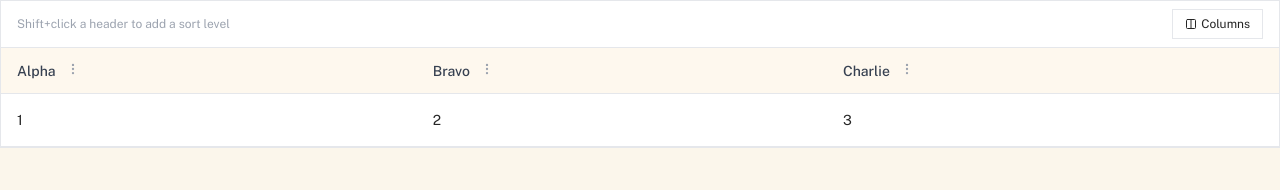
it: DataTable › Select all is disabled when every column is already visible
This screenshot has width=1280, height=190.
Click the button "Columns" at (1218, 24), box [1172, 9, 1263, 39]
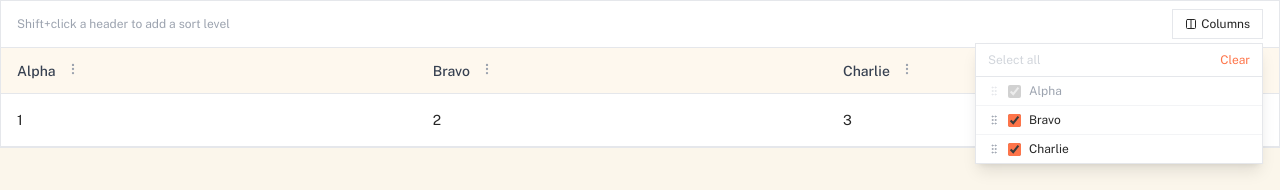
Result: the button "Select all" is disabled at [988, 52, 1040, 68]
